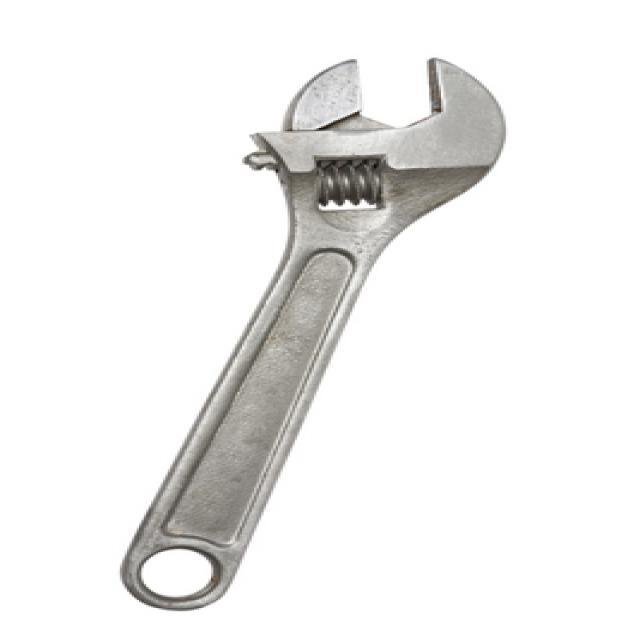wrench: (104, 49, 516, 616)
